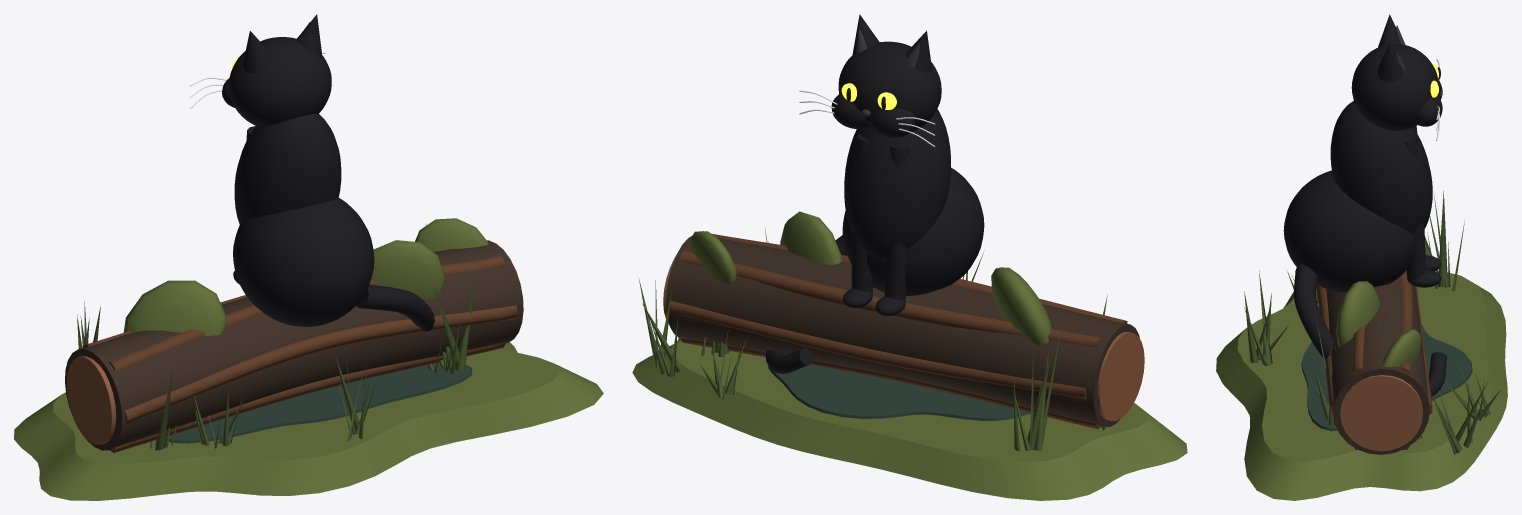
The model's file is BAYOU_CAT.glb.
3 renders of one model, left to right at view 1: azimuth 30°, elevation 25°; view 2: azimuth 150°, elevation 25°; view 3: azimuth 270°, elevation 25°, orthographic. The views are drawn at different scales.
Visible parts, largest first — view 1: Ground, Log, Haunch, Log_Bark, Moss, Chest, Water, Head, Grass, Log_EndGrain, Tail, Ear; view 2: Ground, Log, Log_Bark, Chest, Water, Haunch, Moss, Head, Grass, Log_EndGrain, Leg_Front (×2), Cheek (×2) (+1 smaller); view 3: Ground, Haunch, Chest, Log, Log_EndGrain, Head, Grass, Water, Moss, Tail, Log_Bark, Ear (×2) (+3 smaller).
Part boxes in pixels (x1,y1,x2,y2): Ground: (14,342,603,500); Log: (65,240,523,450); Haunch: (233,197,374,326); Log_Bark: (82,256,517,452); Moss: (123,218,488,336); Chest: (234,113,341,224); Water: (169,363,472,443); Head: (229,37,331,126); Grass: (77,224,475,450); Log_EndGrain: (66,356,116,444); Tail: (356,284,434,331); Ear: (243,31,269,73); Ground: (632,337,1187,500); Log: (666,236,1139,426); Log_Bark: (668,233,1127,429); Chest: (844,109,950,258); Water: (768,364,1030,420); Haunch: (842,167,984,295); Moss: (689,211,1050,345); Head: (838,41,941,134); Grass: (639,227,1107,451); Log_EndGrain: (1097,332,1144,420); Leg_Front (×2): (851,134,909,300); Cheek (×2): (831,93,915,137); Ground: (1216,272,1507,500); Haunch: (1283,170,1414,292); Chest: (1330,101,1432,233); Log: (1326,277,1429,454); Log_EndGrain: (1340,375,1422,451); Head: (1351,44,1438,131); Grass: (1244,191,1500,454); Water: (1301,306,1472,431); Moss: (1336,281,1421,366); Tail: (1293,264,1446,396); Log_Bark: (1316,270,1432,449); Ear (×2): (1377,14,1403,82).
Bounding box in the file's own units: 4.82 × 3.4 × 2.53.
